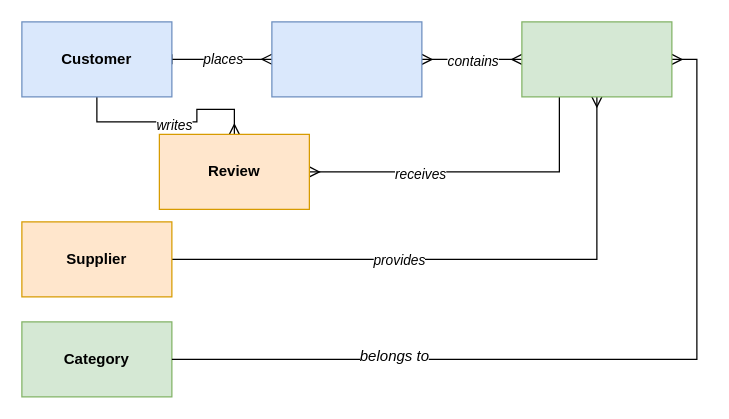
Some shapes in this 729 by 419 pixel diagram are drawn without their labels. The centre of each missing label's shape, as x and y in pixels:
"Order" belongs at (x=346, y=59).
"Product" belongs at (x=596, y=59).
